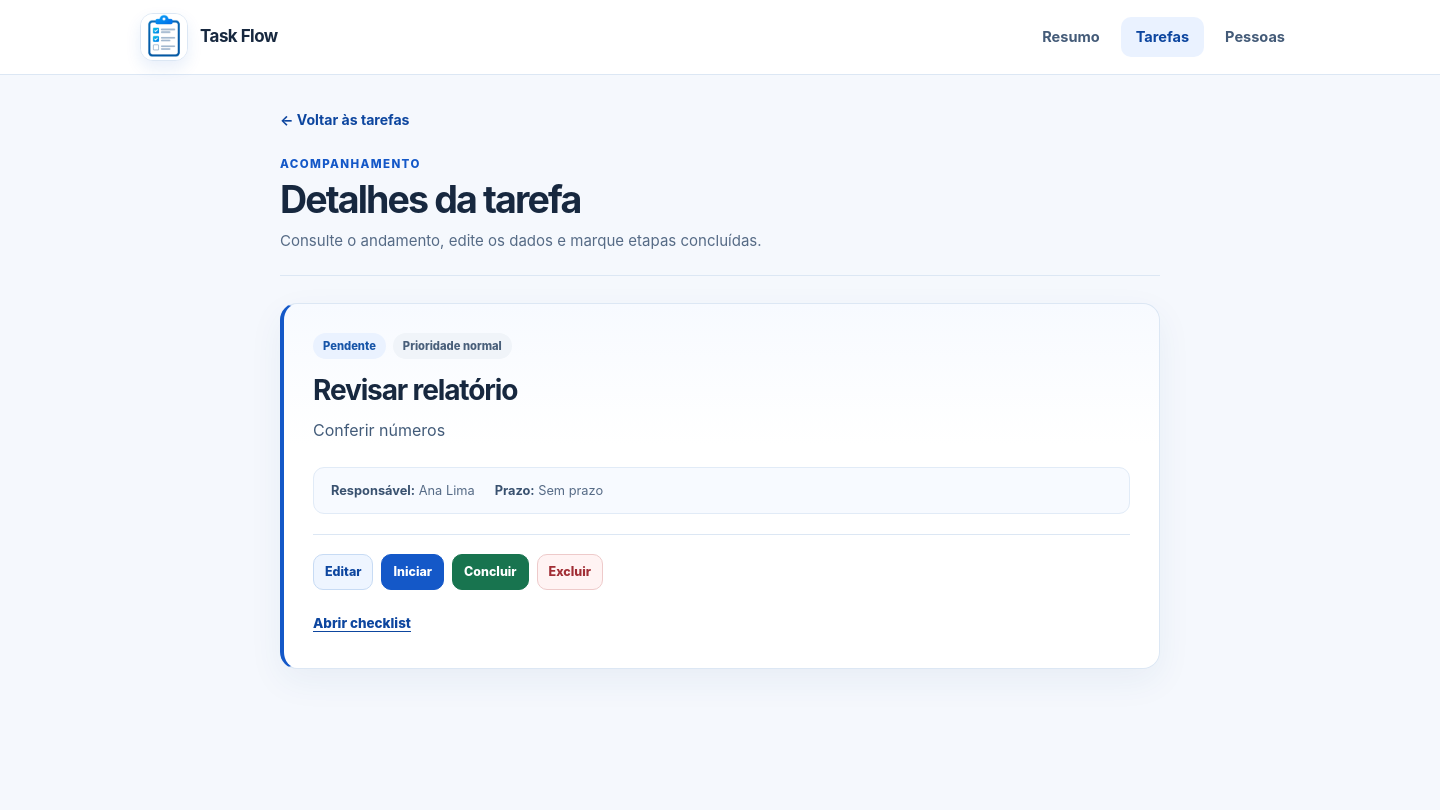
Test: recarga 404 após conflito remove a tarefa obsoleta e oferece retorno
Click the button "Concluir".
click(490, 572)  # box [452,554,529,590]
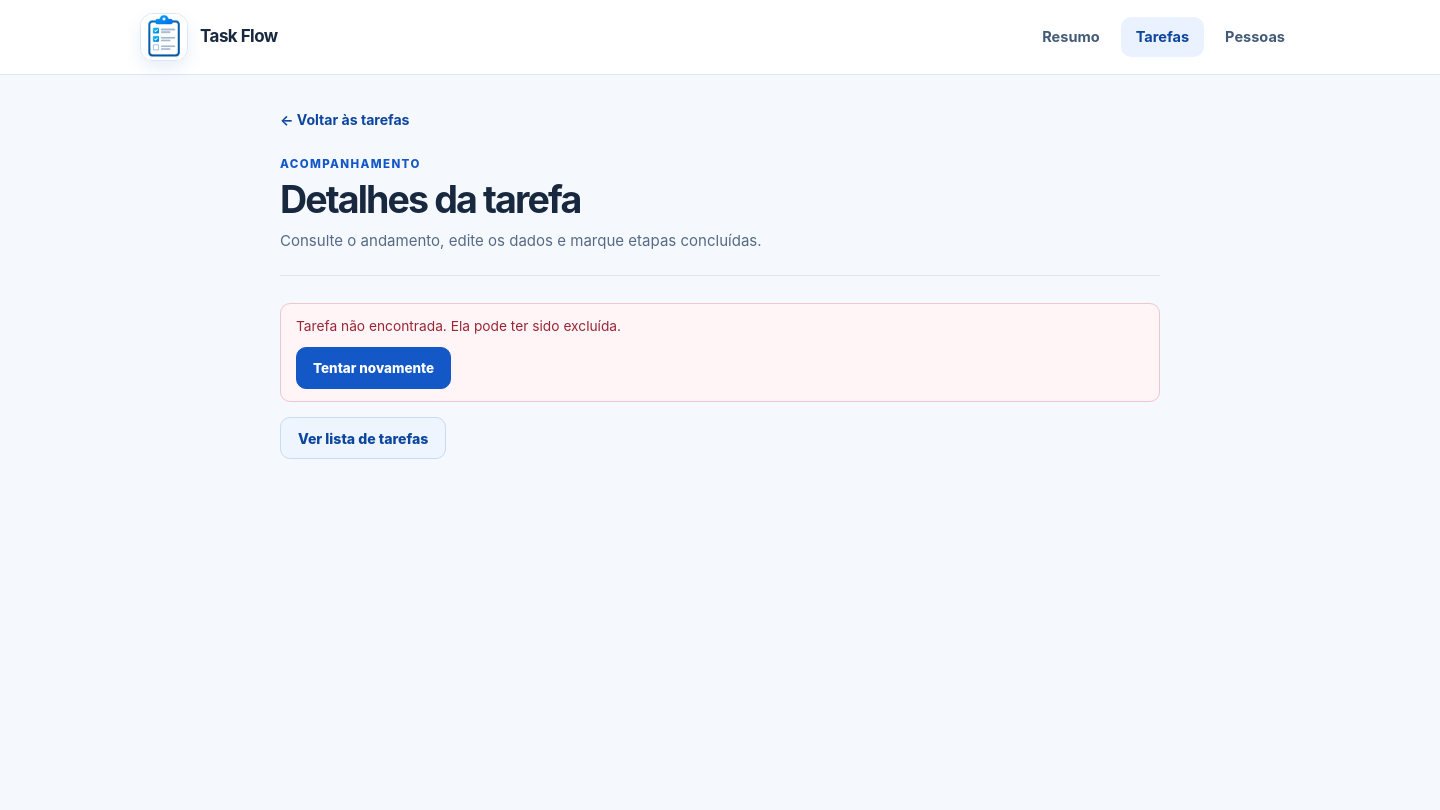
Check: the message shows "Tarefa não encontrada", box [296,318,621,334]
